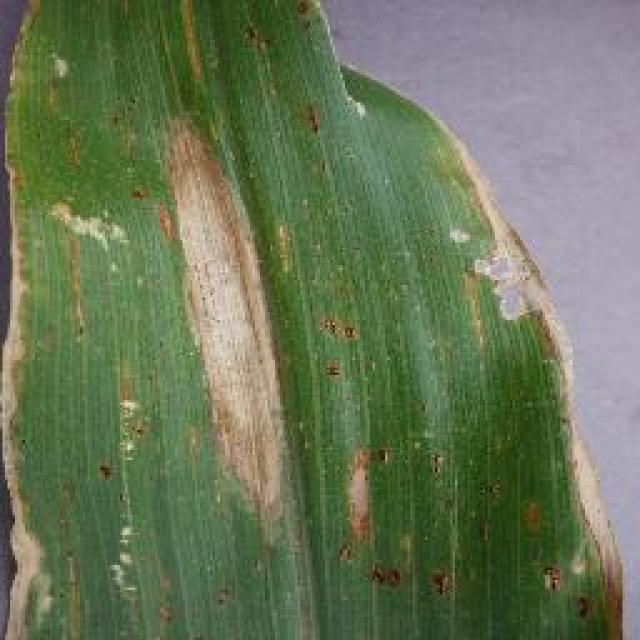Corn___Northern_Leaf_Blight: (5, 2, 630, 640)
